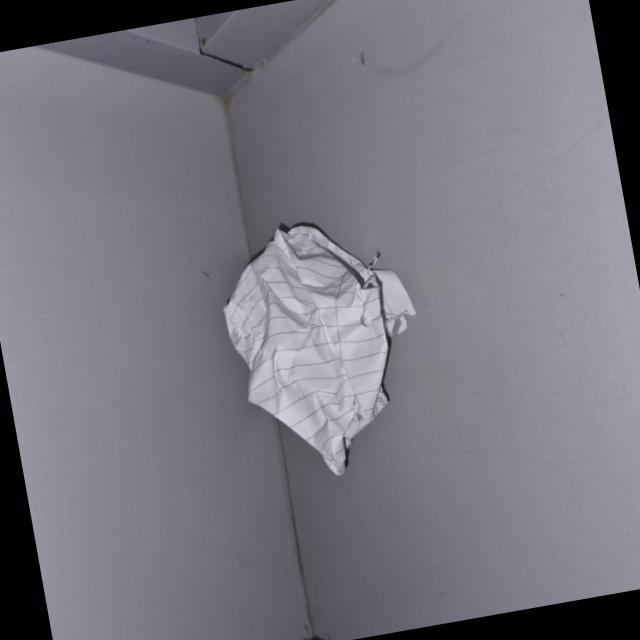cardboard paper: (222, 227, 412, 476)
